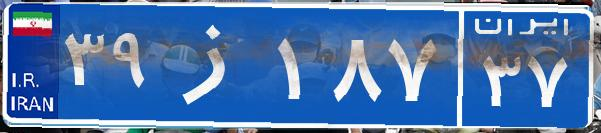1: (273, 28, 330, 110)
3: (57, 26, 110, 107), (475, 38, 525, 113)
7: (385, 28, 445, 110), (525, 38, 570, 115)
8: (330, 28, 385, 110)
9: (110, 28, 158, 105)
ز: (158, 15, 273, 115)
